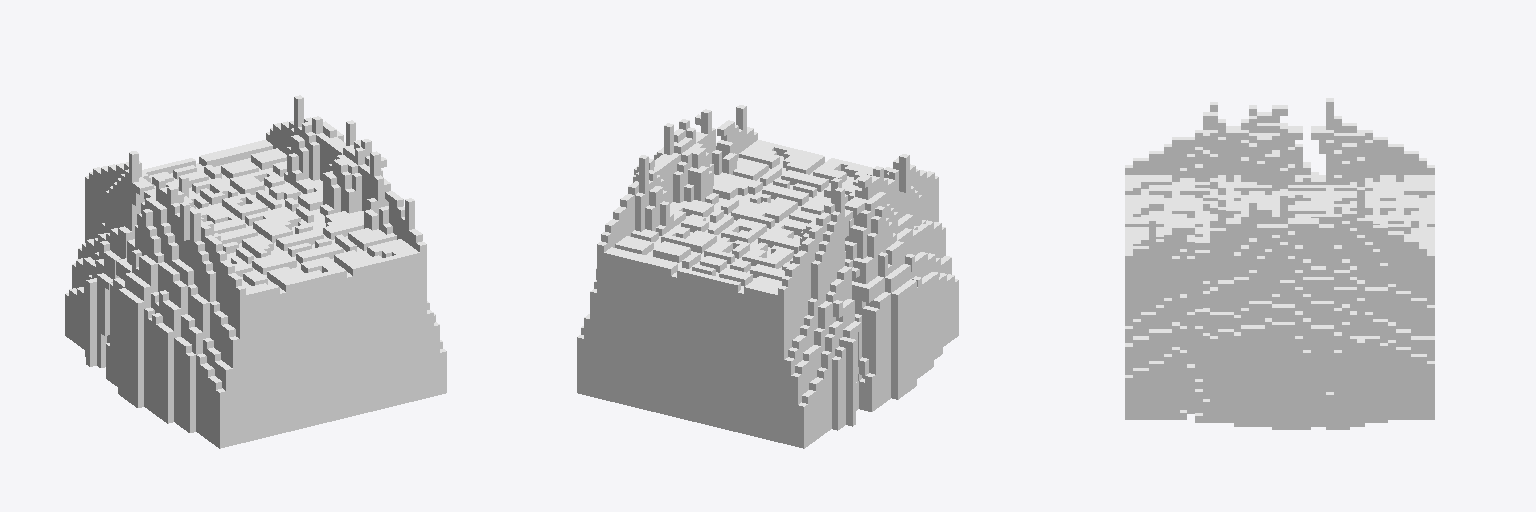
Rendered from Straight_Ice.obj.
3 views of the same model, side by side, from view 1: azimuth 30°, elevation 25°; view 2: azimuth 150°, elevation 25°; view 3: azimuth 270°, elevation 25° (orthographic).
Bounding box in the file's own units: 40 × 31 × 40.